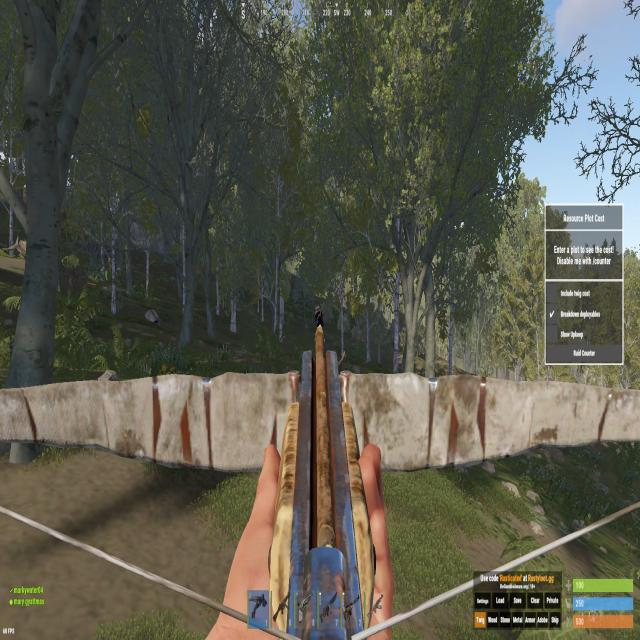Player: (315, 304, 324, 331)
